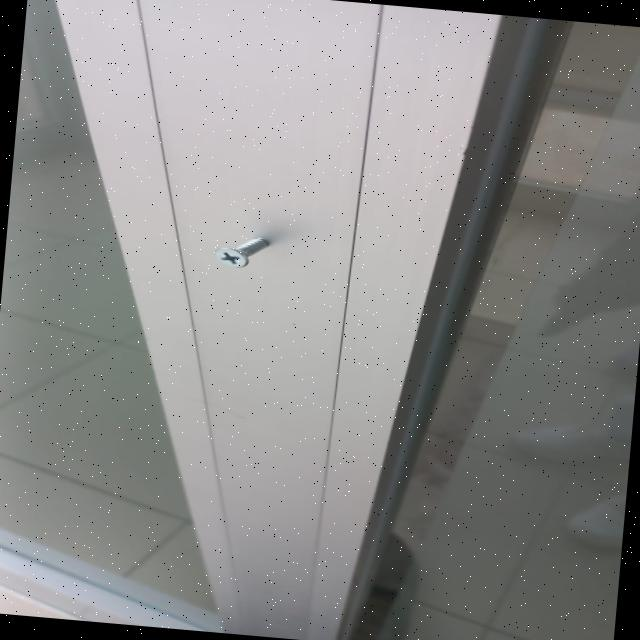Phillips: (203, 242, 255, 275)
